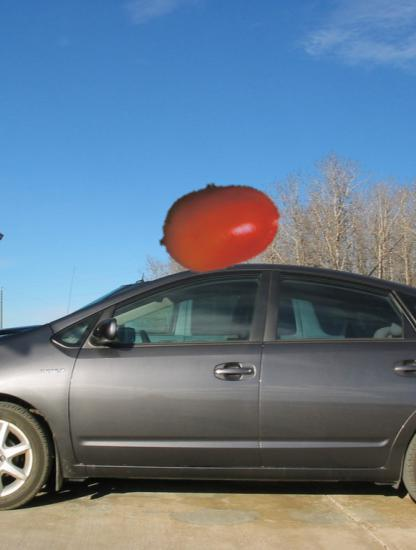Kaki: (156, 162, 283, 289)
